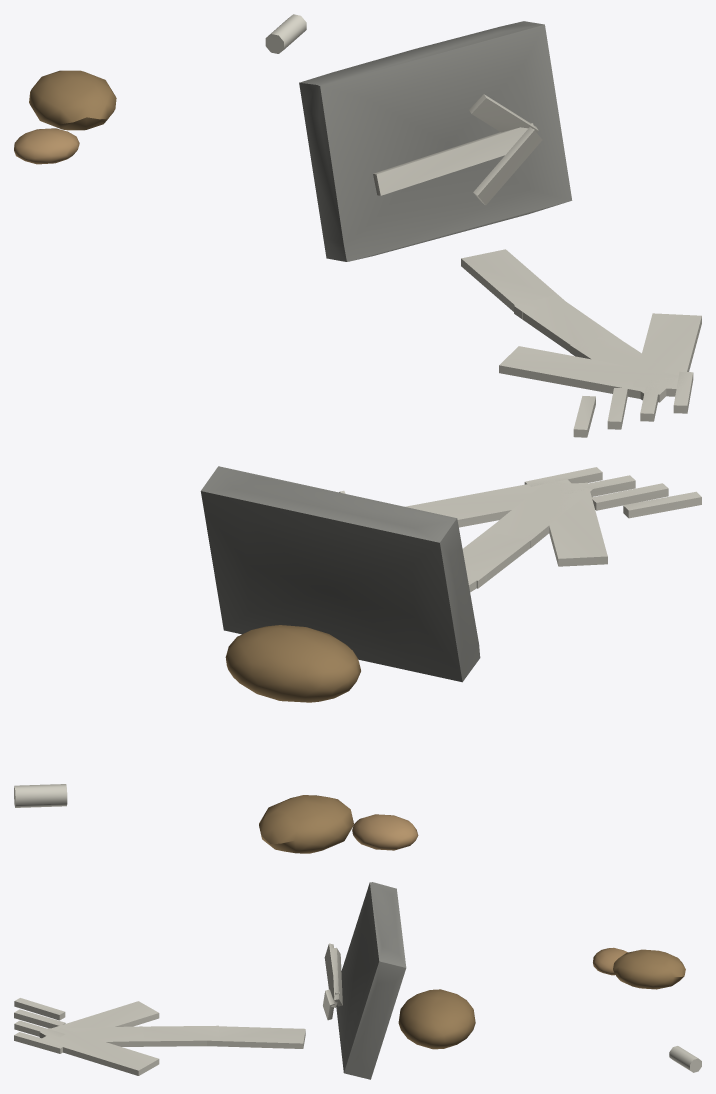
File: chalk_turn_c_lod1.glb
3 renders of one model, top to bottom at view 1: azimuth 30°, elevation 25°; view 2: azimuth 150°, elevation 25°; view 3: azimuth 270°, elevation 25°, orthographic. The views are drawn at different scales.
Parts seen in each view (by area): view 1: Surface.001; view 2: Surface.001; view 3: Surface.001.
Part boxes in pixels (x1,y1,x2,y2): Surface.001: [14, 14, 701, 437]; Surface.001: [14, 466, 701, 853]; Surface.001: [14, 882, 701, 1079].
Size of the model in its own units: 2.45 by 1.13 by 5.67.
